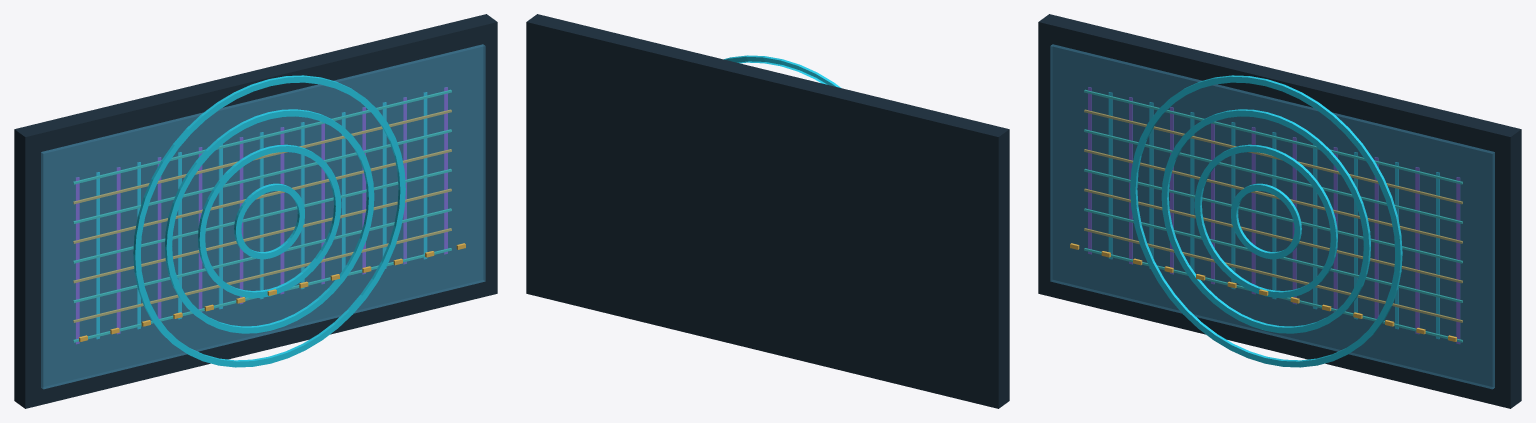
The model's file is 41_L79_HolographicBondWaveCrossSection.fbx.
The picture shows the model from 3 angles, left to right: view 1: azimuth 30°, elevation 25°; view 2: azimuth 150°, elevation 25°; view 3: azimuth 330°, elevation 25°; orthographic projection.
Visible parts, largest first — view 1: HolographicBondWaveCrossSection, HolographicBondWaveCrossSection_Part_0048, HolographicBondWaveCrossSection_Part_0046, HolographicBondWaveCrossSection_Part_0041, HolographicBondWaveCrossSection_Part_0044, HolographicBondWaveCrossSection_Part_0043, HolographicBondWaveCrossSection_Part_0045, HolographicBondWaveCrossSection_Part_0047, HolographicBondWaveCrossSection_Part_0042, HolographicBondWaveCrossSection_Part_0040, HolographicBondWaveCrossSection_Part_0023, HolographicBondWaveCrossSection_Part_0038 (+14 smaller); view 2: HolographicBondWaveCrossSection; view 3: HolographicBondWaveCrossSection, HolographicBondWaveCrossSection_Part_0048, HolographicBondWaveCrossSection_Part_0046, HolographicBondWaveCrossSection_Part_0041, HolographicBondWaveCrossSection_Part_0044, HolographicBondWaveCrossSection_Part_0043, HolographicBondWaveCrossSection_Part_0045, HolographicBondWaveCrossSection_Part_0047, HolographicBondWaveCrossSection_Part_0042, HolographicBondWaveCrossSection_Part_0040, HolographicBondWaveCrossSection_Part_0037, HolographicBondWaveCrossSection_Part_0022 (+14 smaller).
Part boxes in pixels (left/top/right/bottom): HolographicBondWaveCrossSection: left=14, top=14, right=497, bottom=408; HolographicBondWaveCrossSection_Part_0048: left=73, top=89, right=451, bottom=184; HolographicBondWaveCrossSection_Part_0046: left=73, top=129, right=451, bottom=223; HolographicBondWaveCrossSection_Part_0041: left=73, top=228, right=451, bottom=322; HolographicBondWaveCrossSection_Part_0044: left=73, top=169, right=451, bottom=263; HolographicBondWaveCrossSection_Part_0043: left=73, top=188, right=451, bottom=283; HolographicBondWaveCrossSection_Part_0045: left=73, top=149, right=451, bottom=243; HolographicBondWaveCrossSection_Part_0047: left=73, top=109, right=451, bottom=204; HolographicBondWaveCrossSection_Part_0042: left=73, top=208, right=451, bottom=302; HolographicBondWaveCrossSection_Part_0040: left=73, top=248, right=451, bottom=342; HolographicBondWaveCrossSection_Part_0023: left=116, top=167, right=120, bottom=334; HolographicBondWaveCrossSection_Part_0038: left=423, top=92, right=427, bottom=259; HolographicBondWaveCrossSection: left=526, top=14, right=1009, bottom=408; HolographicBondWaveCrossSection: left=1038, top=14, right=1521, bottom=408; HolographicBondWaveCrossSection_Part_0048: left=1084, top=89, right=1462, bottom=184; HolographicBondWaveCrossSection_Part_0046: left=1084, top=129, right=1462, bottom=223; HolographicBondWaveCrossSection_Part_0041: left=1084, top=228, right=1462, bottom=322; HolographicBondWaveCrossSection_Part_0044: left=1084, top=169, right=1462, bottom=263; HolographicBondWaveCrossSection_Part_0043: left=1084, top=188, right=1462, bottom=283; HolographicBondWaveCrossSection_Part_0045: left=1084, top=149, right=1462, bottom=243; HolographicBondWaveCrossSection_Part_0047: left=1084, top=109, right=1462, bottom=204; HolographicBondWaveCrossSection_Part_0042: left=1084, top=208, right=1462, bottom=302; HolographicBondWaveCrossSection_Part_0040: left=1084, top=248, right=1462, bottom=342; HolographicBondWaveCrossSection_Part_0037: left=1415, top=167, right=1419, bottom=334; HolographicBondWaveCrossSection_Part_0022: left=1108, top=92, right=1112, bottom=259.
Bounding box in the file's own units: 300 × 172 × 24.75.
